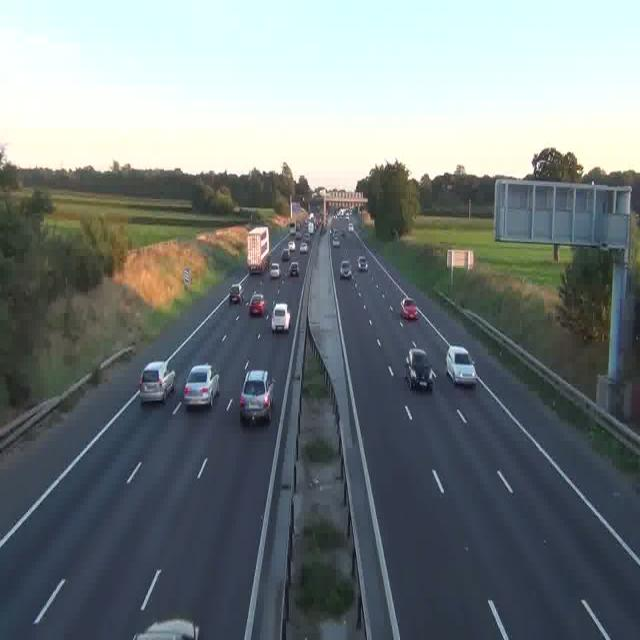bus: (247, 227, 271, 273)
car: (240, 369, 274, 422), (183, 364, 219, 408), (139, 362, 175, 404), (133, 618, 199, 639), (445, 346, 477, 385), (405, 347, 433, 390), (271, 304, 290, 332), (400, 297, 418, 320), (249, 294, 265, 316), (229, 284, 244, 304), (339, 260, 351, 278), (287, 260, 299, 276), (269, 263, 281, 278), (358, 256, 368, 272), (282, 248, 291, 261), (300, 241, 308, 252), (332, 235, 340, 246)
truck: (308, 218, 315, 235)
